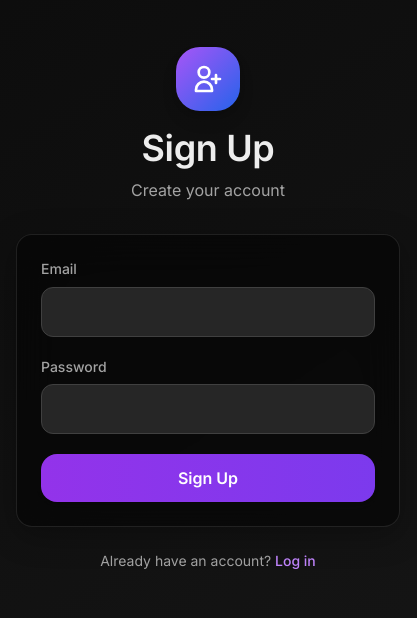
Test: AuthForm › サインアップモード › 登録失敗時にAPIエラーメッセージが表示される
Type "existing@example.com" into the field labelled "Email" at (208, 312), box [41, 287, 375, 337]
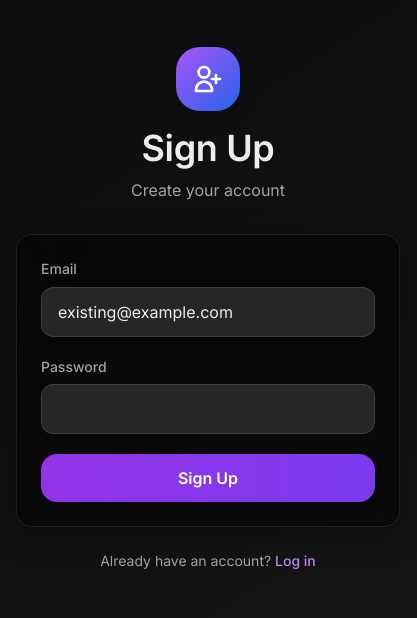
Type "password123" into the password field labelled "Password" at (208, 409), box [41, 384, 375, 434]
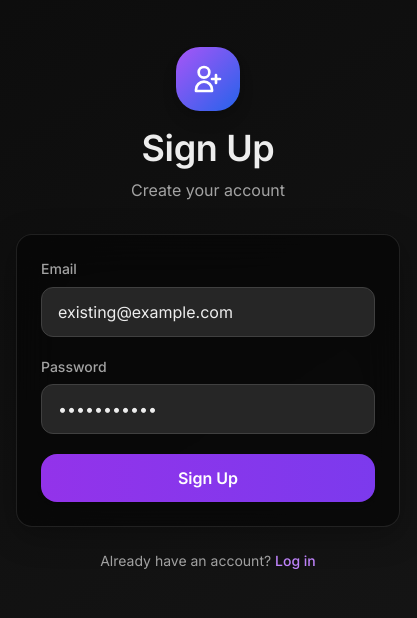
Click the button "Sign Up" at (208, 478), box [41, 454, 375, 502]
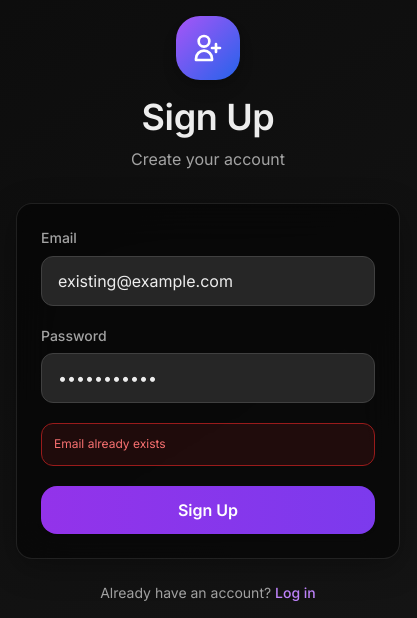
Expected: the text "Email already exists" is shown, [54, 436, 166, 451]
